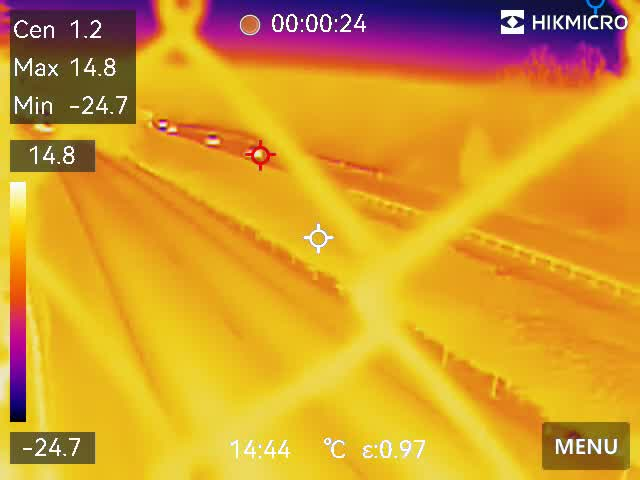vehicle: (244, 143, 265, 161), (203, 131, 223, 147), (155, 117, 170, 129), (166, 124, 180, 134)
